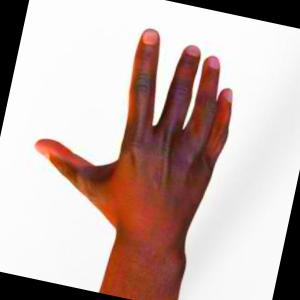paper: (35, 29, 232, 300)
